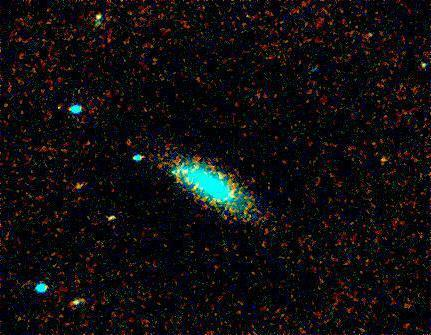star: (368, 143, 398, 173)
